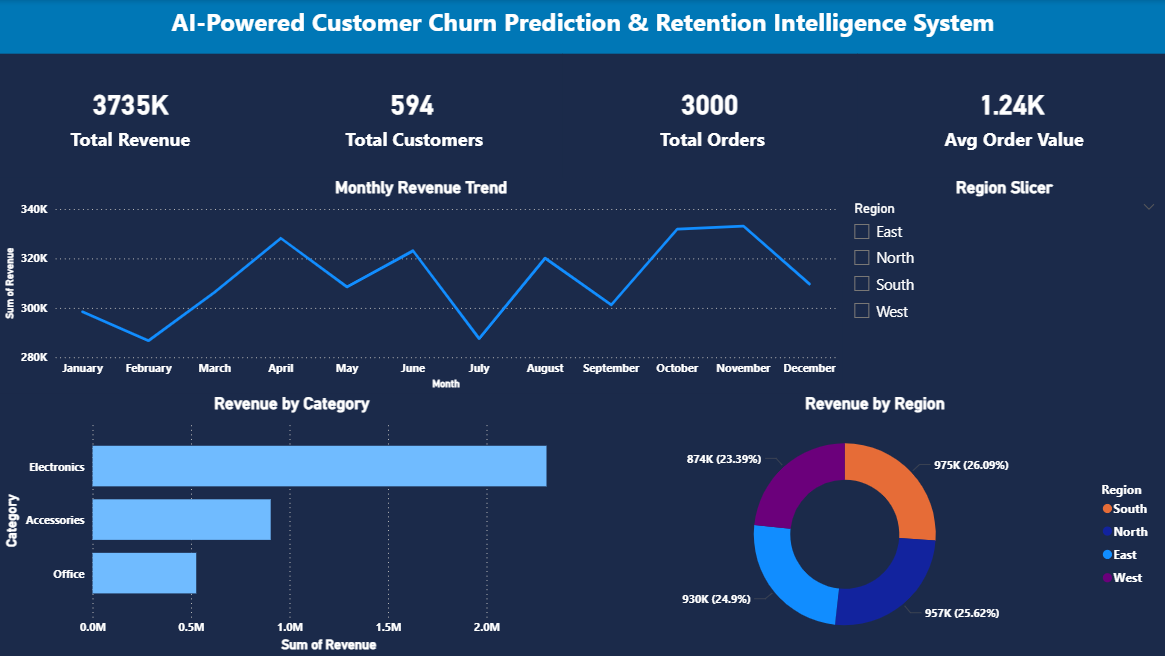

What the dashboard file says about the page in this screenshot:
{"tool":"powerbi","page":{"name":"Business Overview","canvas":[1280,720],"ordinal":0},"visuals":[{"type":"textbox","box":[0,0,1280.3,59],"z":0},{"type":"card","fields":{"Values":["Sum(customer_cohort_dataset.Revenue)"]},"box":[0,59,286.8,135.8],"z":1000},{"type":"card","fields":{"Values":["Count(customer_cohort_dataset.Customer_ID)"]},"box":[286.8,59,330.7,135.8],"z":2000},{"type":"card","fields":{"Values":["Count(customer_cohort_dataset.Order_ID)"]},"box":[617.5,59,323.8,135.8],"z":3000},{"type":"card","fields":{"Values":["Avg(customer_cohort_dataset.Revenue)"]},"box":[941.3,59,338.9,135.8],"z":4000},{"type":"lineChart","title":"Monthly Revenue Trend","fields":{"Category":["customer_cohort_dataset.Order_Month.Variation.Date Hierarchy.Month"],"Y":["Sum(customer_cohort_dataset.Revenue)"]},"box":[0,194.9,924.9,237.4],"z":5000},{"type":"donutChart","title":"Revenue by Region","fields":{"Category":["customer_cohort_dataset.Region"],"Y":["Sum(customer_cohort_dataset.Revenue)"]},"box":[640.8,432.2,639.5,288.2],"z":6000},{"type":"slicer","title":"Region Slicer","fields":{"Values":["customer_cohort_dataset.Region"]},"box":[924.9,194.9,355.4,237.4],"z":7000},{"type":"clusteredBarChart","title":"Revenue by Category","fields":{"Category":["customer_cohort_dataset.Category"],"Y":["Sum(customer_cohort_dataset.Revenue)"]},"box":[0,432.2,640.8,288.2],"z":8000}]}

Visuals, with their boxes in screenshot pixels (x1, y1, x2, y2), scaled from the page's 1280x720 canvas onto the 1165x656 screenshot:
textbox: {"x1": 0, "y1": 0, "x2": 1164, "y2": 54}
card - Sum(customer_cohort_dataset.Revenue): {"x1": 0, "y1": 54, "x2": 261, "y2": 177}
card - Count(customer_cohort_dataset.Customer_ID): {"x1": 261, "y1": 54, "x2": 562, "y2": 177}
card - Count(customer_cohort_dataset.Order_ID): {"x1": 562, "y1": 54, "x2": 857, "y2": 177}
card - Avg(customer_cohort_dataset.Revenue): {"x1": 857, "y1": 54, "x2": 1164, "y2": 177}
"Monthly Revenue Trend" lineChart: {"x1": 0, "y1": 178, "x2": 842, "y2": 394}
"Revenue by Region" donutChart: {"x1": 583, "y1": 394, "x2": 1164, "y2": 655}
"Region Slicer" slicer: {"x1": 842, "y1": 178, "x2": 1164, "y2": 394}
"Revenue by Category" clusteredBarChart: {"x1": 0, "y1": 394, "x2": 583, "y2": 655}
